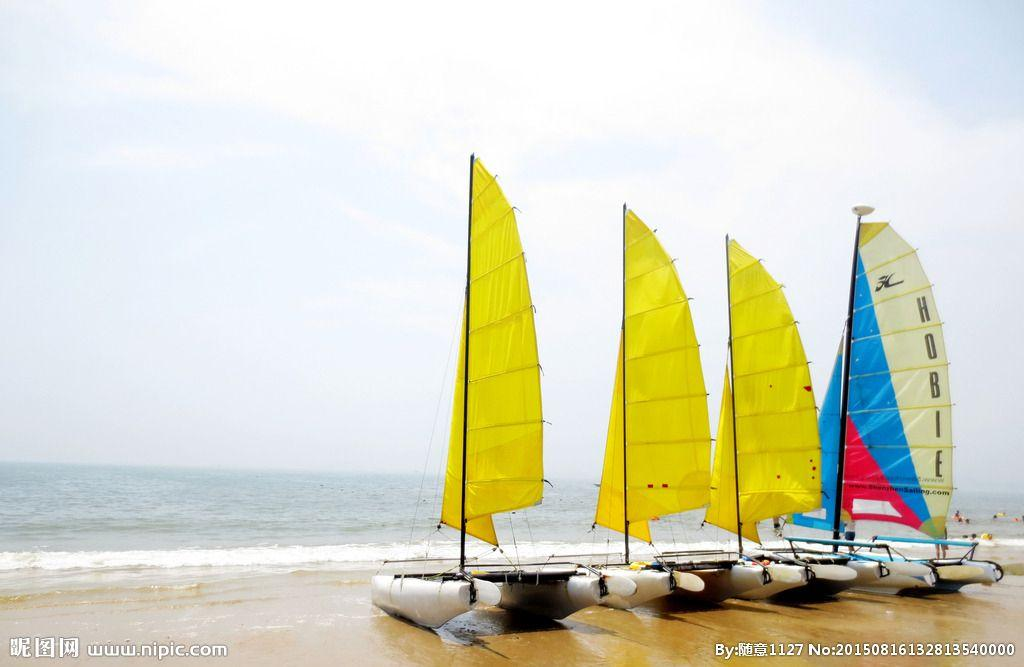fanchuan: (372, 136, 617, 624), (833, 196, 1001, 600), (715, 219, 855, 598), (603, 193, 716, 598)
